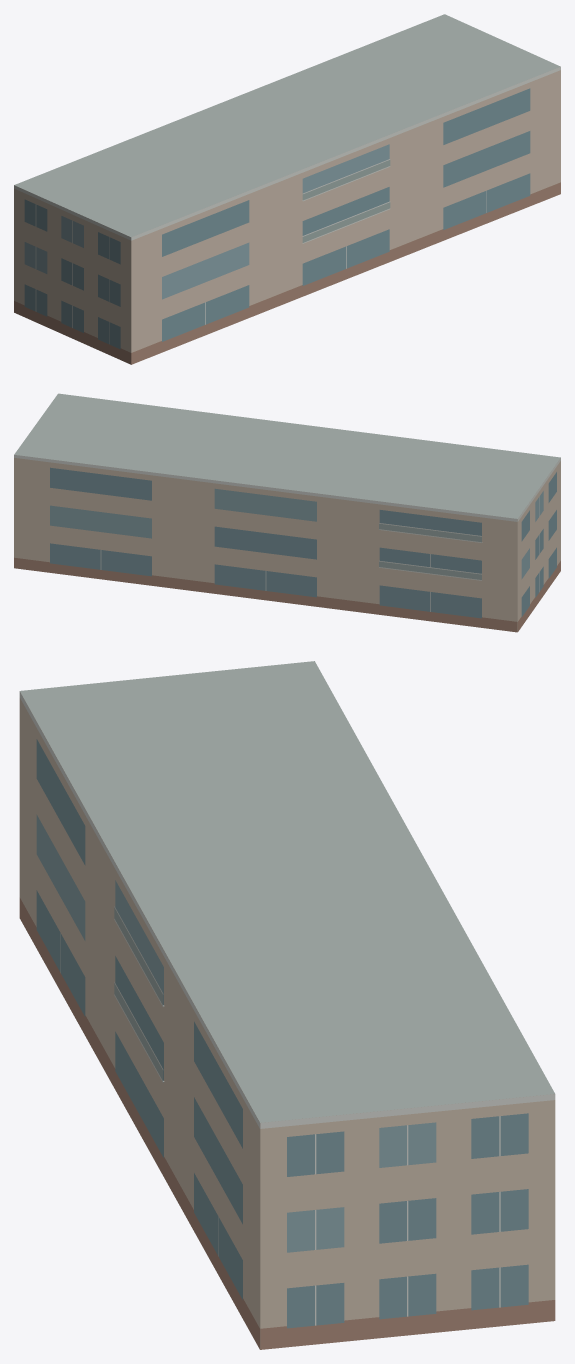
The model's file is survey-upis-32969762.glb.
3 views of the same model, one above another, from view 1: azimuth 30°, elevation 25°; view 2: azimuth 150°, elevation 25°; view 3: azimuth 270°, elevation 25° (orthographic). The views are drawn at different scales.
Visible parts, largest first — view 1: survey-upis-32969762.tmp; view 2: survey-upis-32969762.tmp; view 3: survey-upis-32969762.tmp.
Part boxes in pixels (box(x1,y1,x2,y2)): survey-upis-32969762.tmp: box(14, 14, 560, 364); survey-upis-32969762.tmp: box(14, 393, 560, 632); survey-upis-32969762.tmp: box(19, 661, 555, 1349).
Size of the model in its own units: 39.94 by 9.15 by 19.58.
